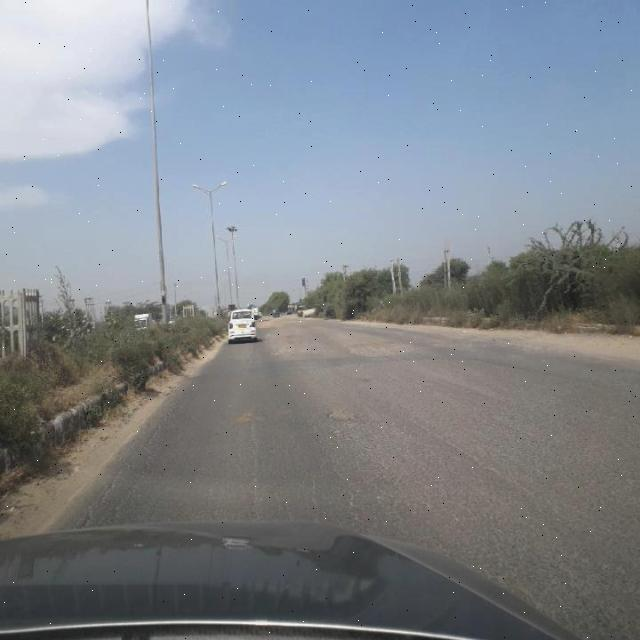D00: (76, 394, 184, 522), (408, 410, 538, 500), (245, 417, 265, 517)
D40: (342, 336, 429, 361), (323, 402, 366, 426)
